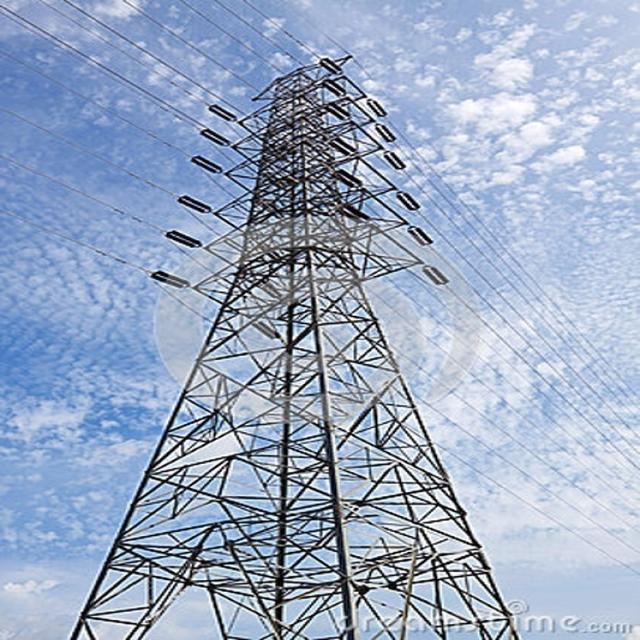non-critical vegetation: (90, 41, 542, 633)
